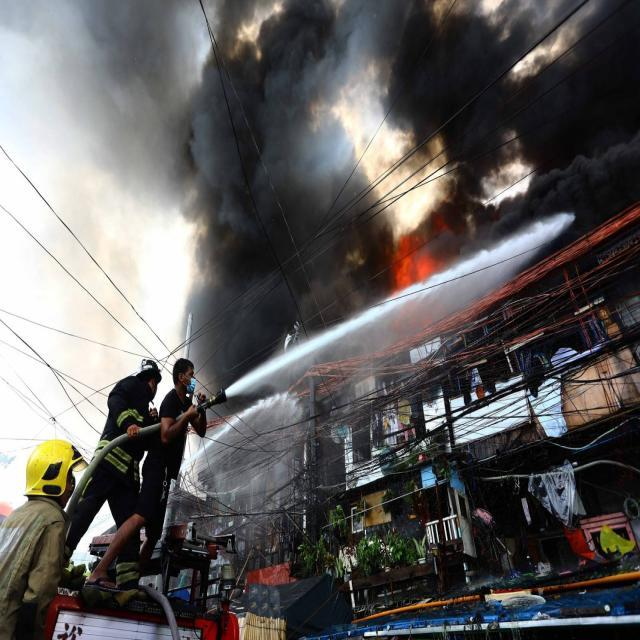Fire: (386, 229, 444, 299)
Smoke: (160, 0, 385, 376), (391, 0, 639, 245)
